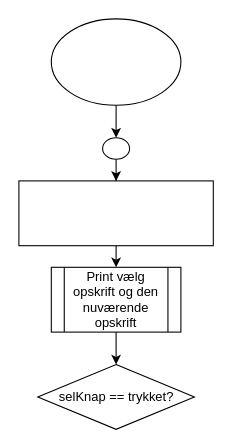
This 232x448 diagram has some shape labels left out. The centre of each missing label's shape, as x and y in pixels:
Læs knapperne op tilskriv det: selKnap selOp: the point at 115,213
Opstart procedure setup(): the point at 115,61
